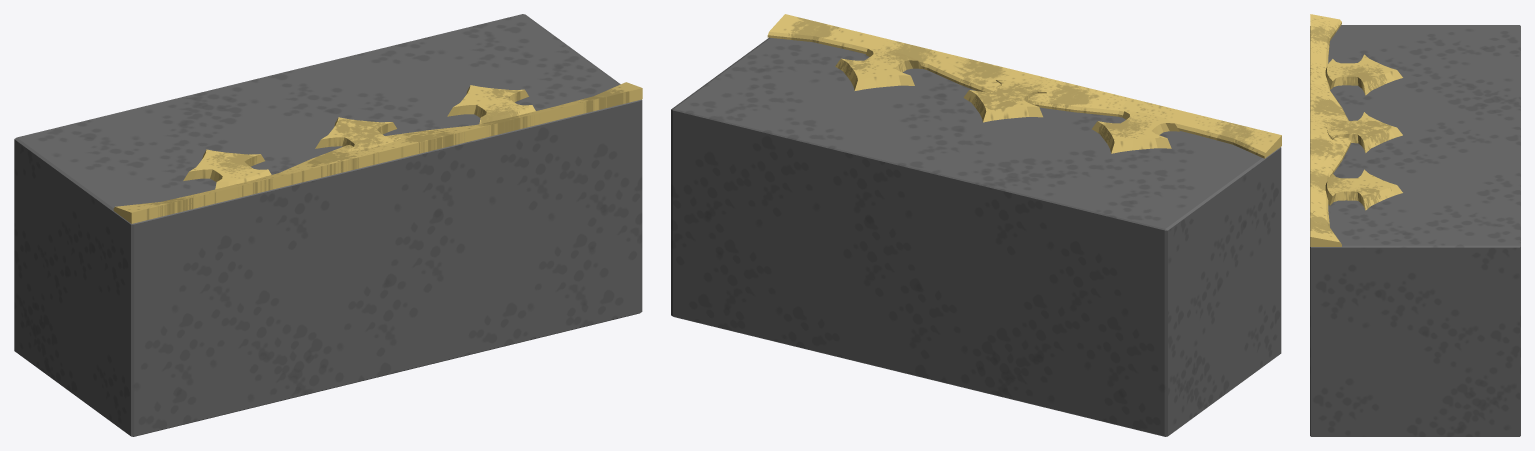
Rendered from Wall_01.fbx.
3 views of the same model, side by side, from view 1: azimuth 30°, elevation 25°; view 2: azimuth 150°, elevation 25°; view 3: azimuth 270°, elevation 25° (orthographic). The views are drawn at different scales.
Parts seen in each view (by area): view 1: Wall_01; view 2: Wall_01; view 3: Wall_01.
Boxes of the visible parts, x1=… form: Wall_01: x1=14, y1=14, x2=642, y2=436; Wall_01: x1=671, y1=14, x2=1281, y2=436; Wall_01: x1=1310, y1=14, x2=1520, y2=436.
Size of the model in its own units: 5 by 2.1 by 2.
1 material, 1 textured.
